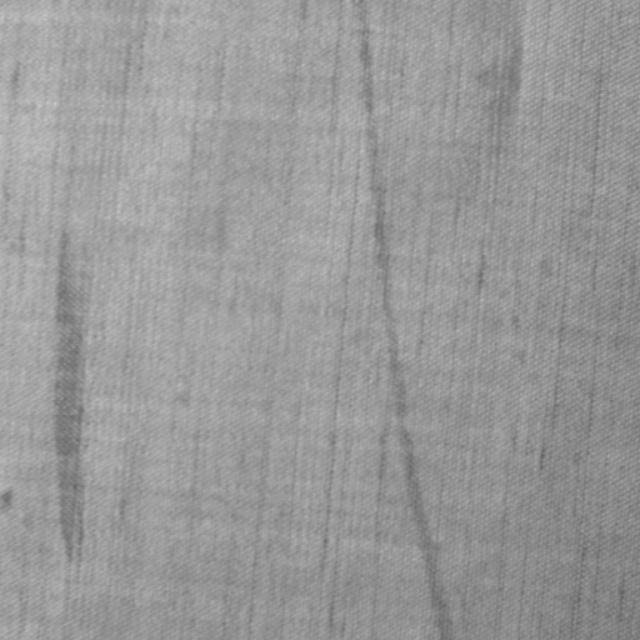oil spot: (351, 4, 453, 638), (51, 225, 91, 564)
